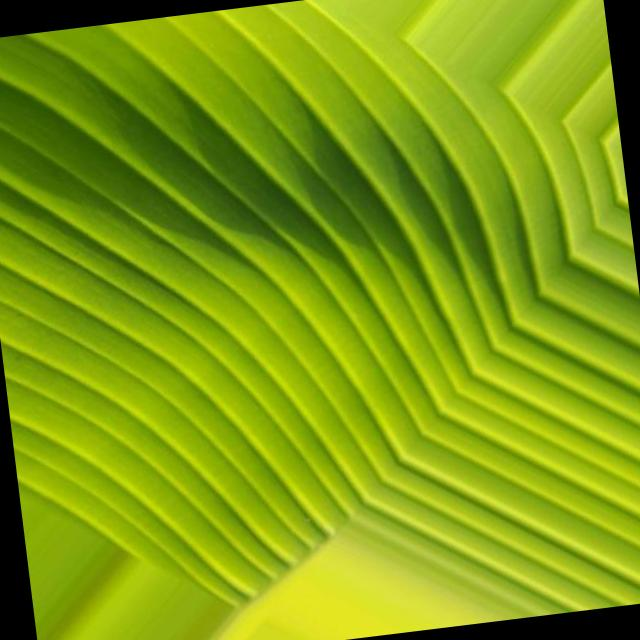Banana_Healthy: (106, 68, 560, 465)
